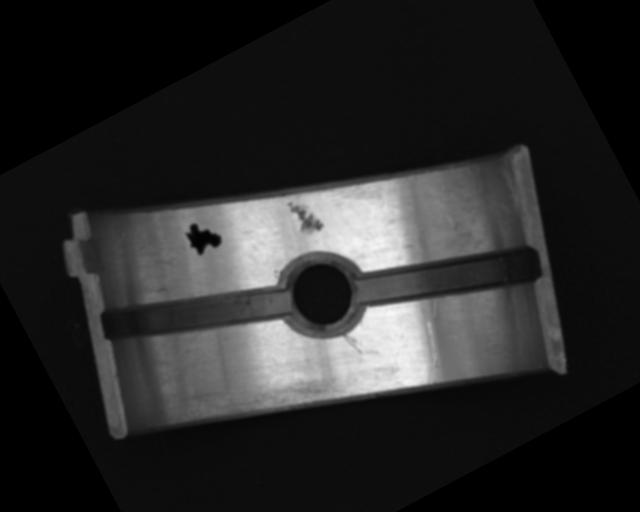blot: (180, 214, 224, 259)
bruise: (284, 193, 325, 240)
gap: (96, 234, 294, 394), (353, 203, 542, 353)
hole: (268, 241, 375, 350)
nick: (402, 319, 458, 386), (339, 328, 363, 359)
scratch: (180, 341, 346, 467)
